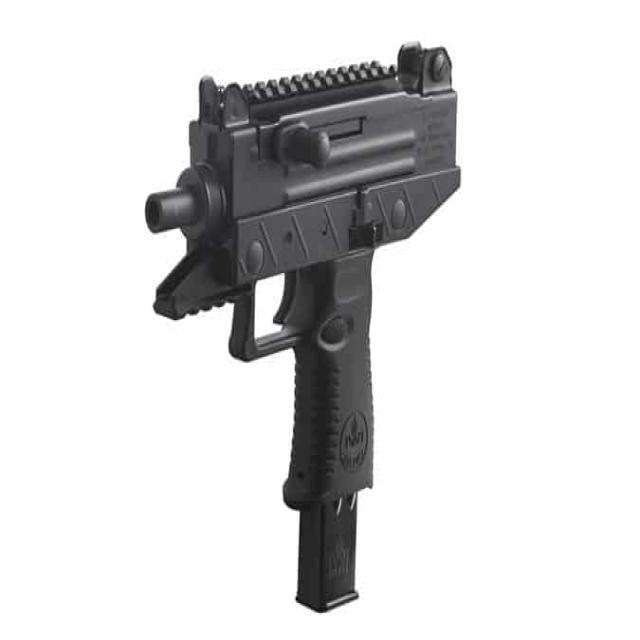SMG: (145, 43, 462, 616)
